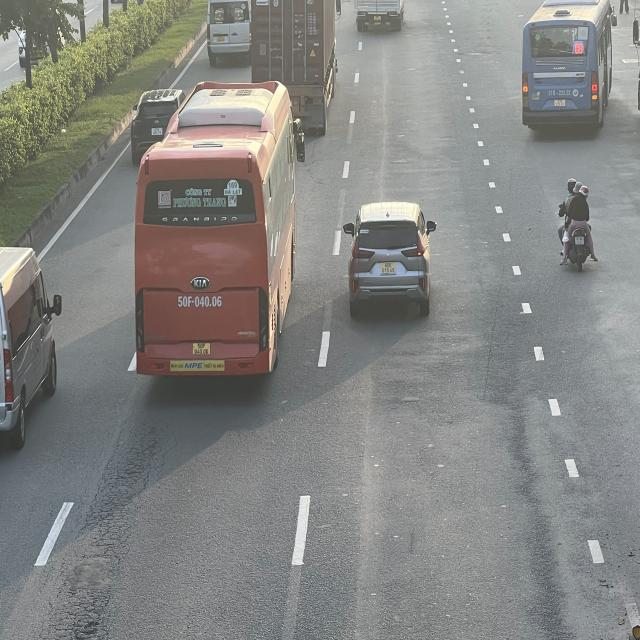car: (343, 200, 434, 315)
coach: (132, 86, 300, 386), (523, 2, 620, 134)
container: (251, 0, 341, 136)
van: (0, 243, 62, 446), (207, 0, 253, 65)
